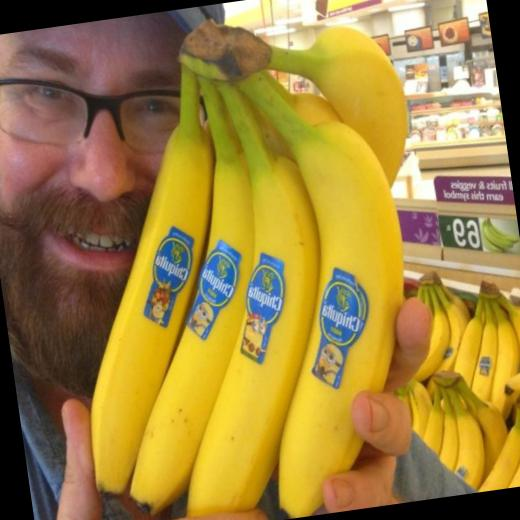Banana: (33, 0, 461, 520), (229, 52, 440, 518), (375, 256, 520, 501), (482, 216, 512, 252), (487, 216, 518, 248), (489, 216, 520, 246), (480, 218, 504, 254)
